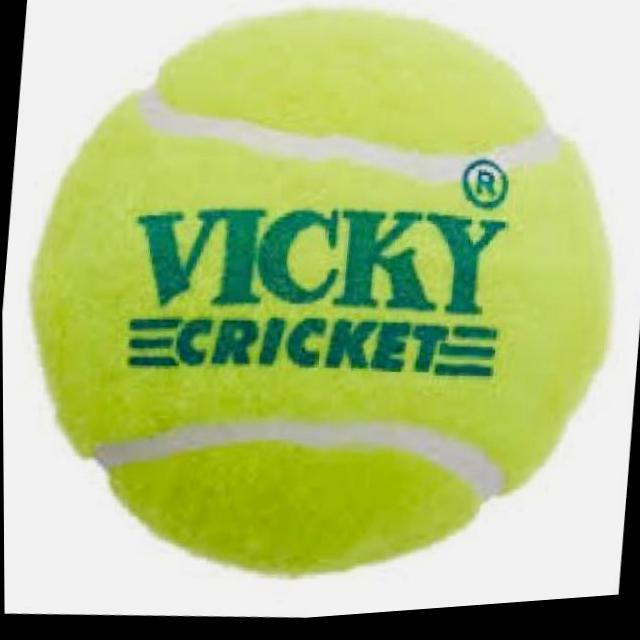-: (17, 0, 640, 601)
